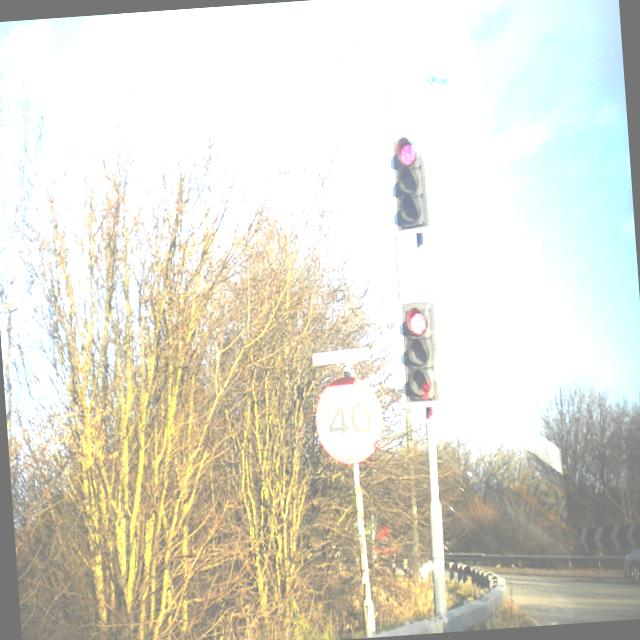Vehicle: (362, 508, 407, 575), (625, 532, 640, 591)
